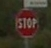stop: (13, 8, 39, 37)
